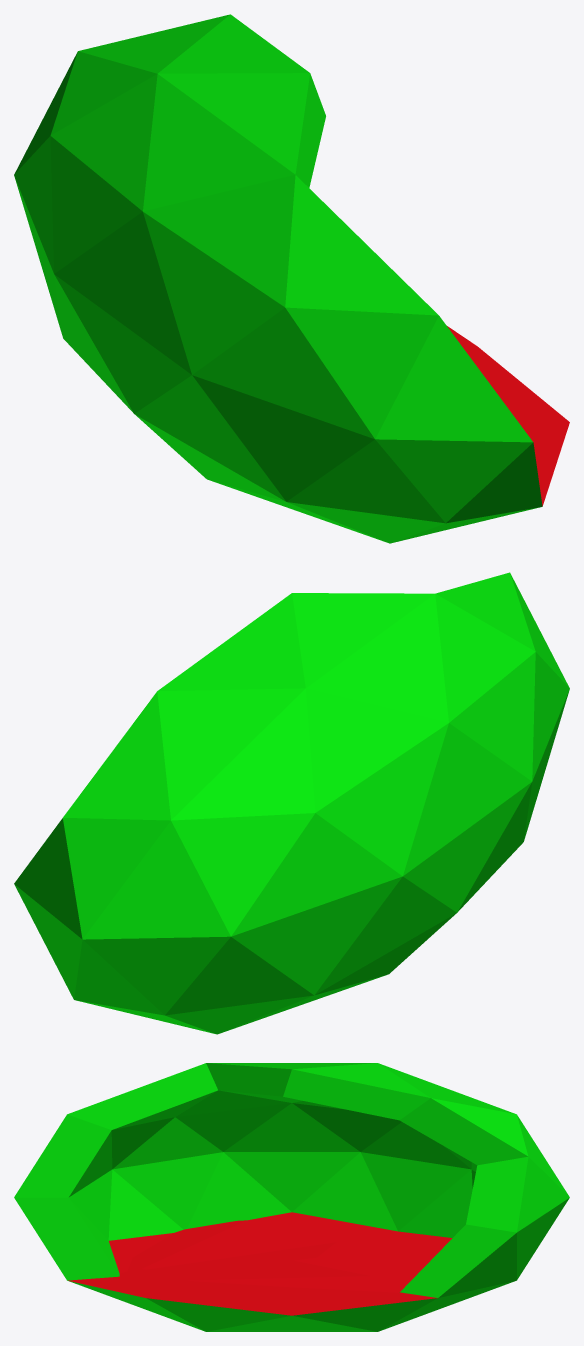
Rendered from nuezD.fbx.
3 renders of one model, top to bottom at view 1: azimuth 30°, elevation 25°; view 2: azimuth 150°, elevation 25°; view 3: azimuth 270°, elevation 25°, orthographic. The views are drawn at different scales.
Parts seen in each view (by area): view 1: Icosphere.001; view 2: Icosphere.001; view 3: Icosphere.001.
Boxes of the visible parts, left/top/right/bottom form: Icosphere.001: left=14, top=14, right=569, bottom=543; Icosphere.001: left=14, top=572, right=569, bottom=1034; Icosphere.001: left=14, top=1063, right=569, bottom=1331.
Size of the model in its own units: 2 by 3.93 by 1.8.
